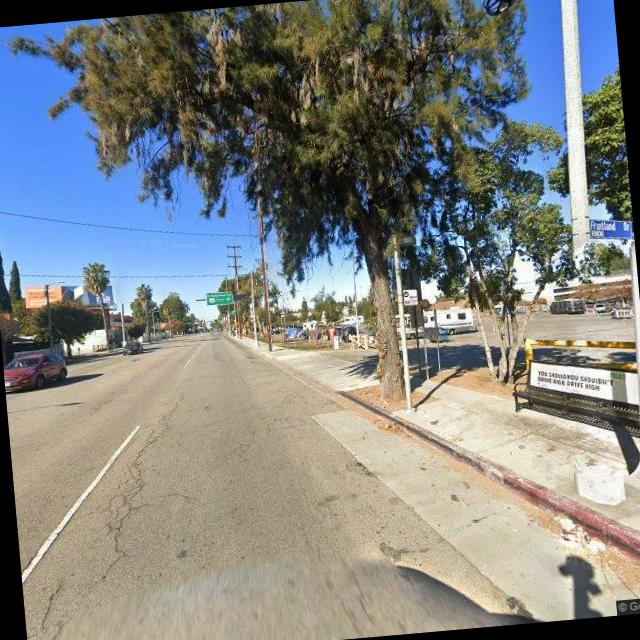crack: (78, 392, 192, 581)
